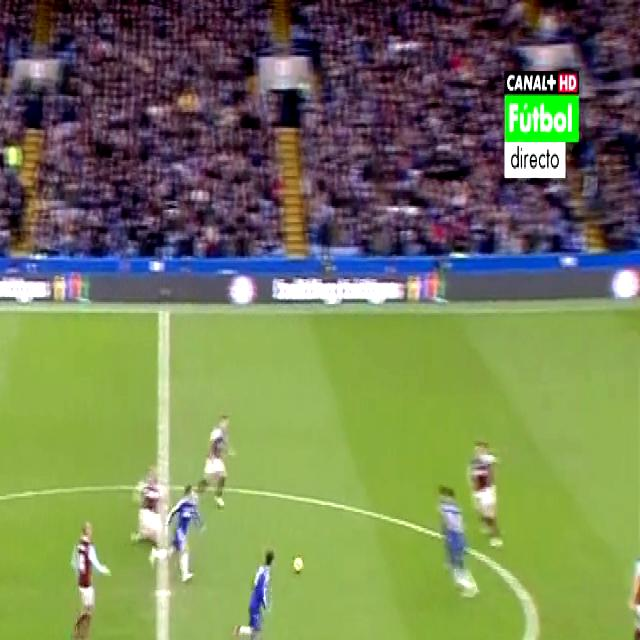ball: (292, 542, 310, 582)
soccer-player: (429, 474, 481, 607), (461, 420, 509, 557), (63, 510, 109, 640), (124, 448, 170, 569), (192, 398, 235, 524), (163, 470, 206, 594), (231, 537, 281, 640), (620, 531, 637, 640)
